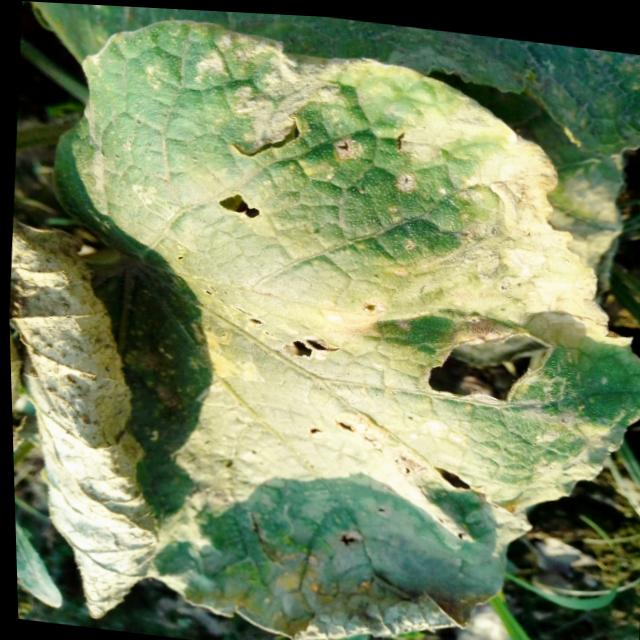Anthracnose: (421, 318, 560, 416), (211, 183, 267, 231), (278, 330, 340, 371), (428, 460, 479, 499)
